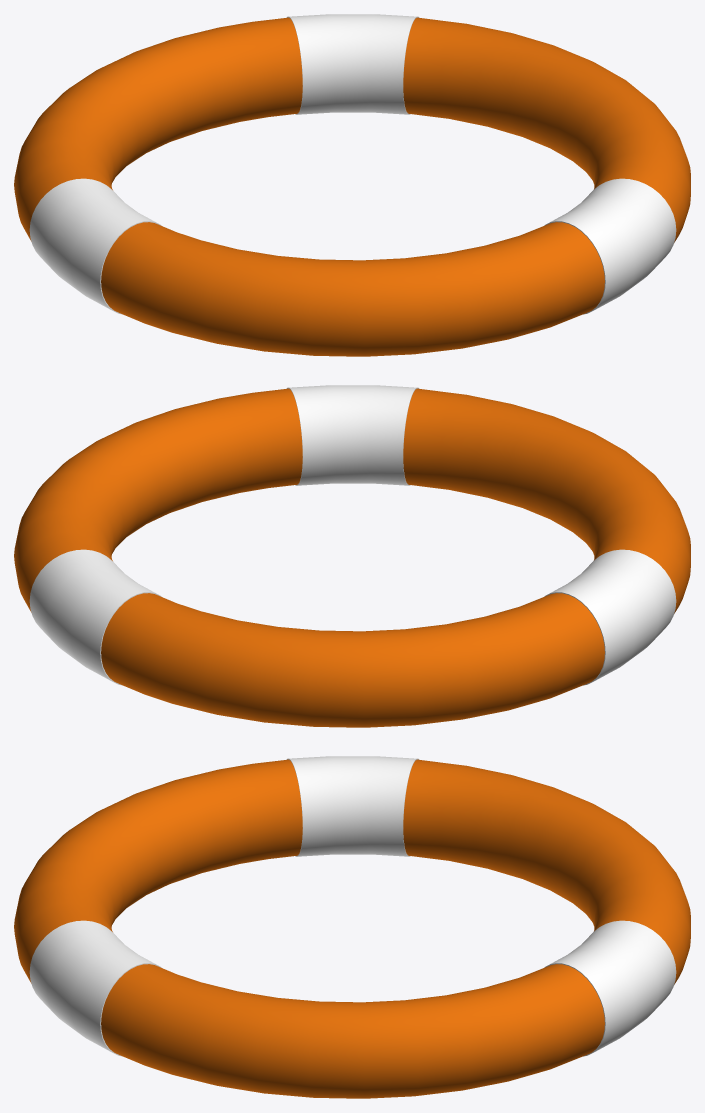
3 views of the same model, one above another, from view 1: azimuth 30°, elevation 25°; view 2: azimuth 150°, elevation 25°; view 3: azimuth 270°, elevation 25° (orthographic).
Parts seen in each view (by area): view 1: High Note; view 2: High Note; view 3: High Note.
Part boxes in pixels (<box>): High Note: <box>14,14,690,356</box>; High Note: <box>14,385,690,727</box>; High Note: <box>14,756,690,1098</box>.
Bounding box in the file's own units: 0.3556 × 0.0518 × 0.3551.
